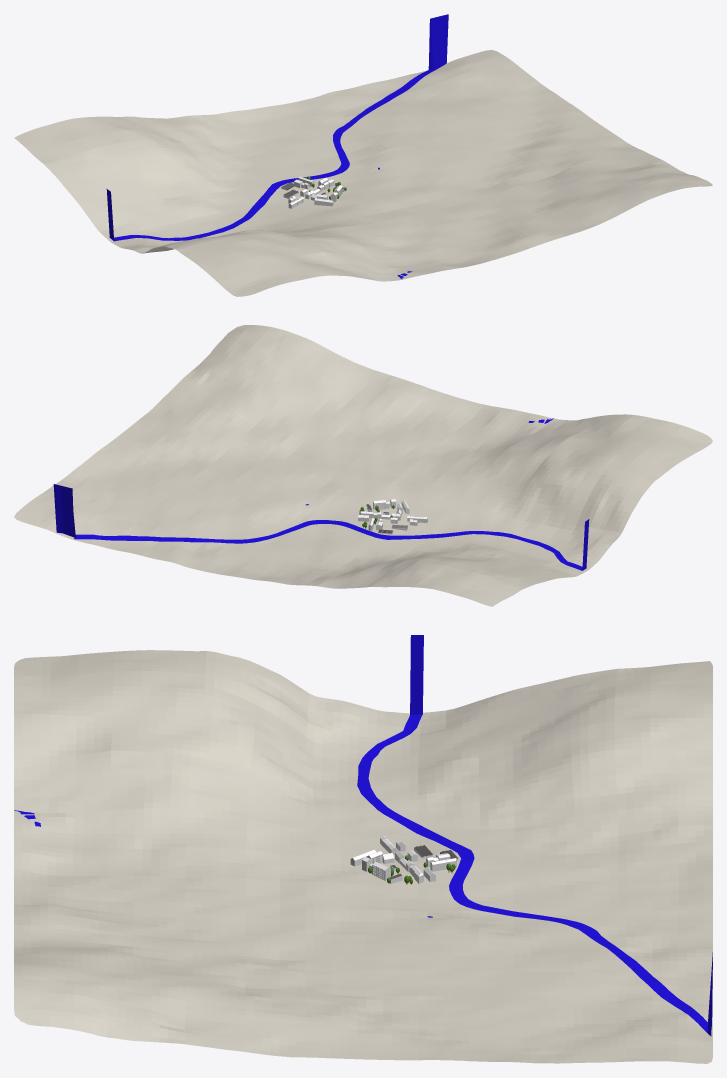
File: Arrenberg-Blender_04.gltf
3 views of the same model, one above another, from view 1: azimuth 30°, elevation 25°; view 2: azimuth 150°, elevation 25°; view 3: azimuth 270°, elevation 25° (orthographic). The views are drawn at different scales.
Visible parts, largest first — view 1: Terrrain, map_3.osm_water; view 2: Terrrain, map_3.osm_water; view 3: Terrrain, map_3.osm_water.
Boxes of the visible parts, x1,y1,x2,y2 form: Terrrain: (14,50,712,296); map_3.osm_water: (106,14,448,279); Terrrain: (14,325,712,606); map_3.osm_water: (53,418,589,570); Terrrain: (14,650,712,1063); map_3.osm_water: (14,635,712,1036).
Bounding box in the file's own units: 1591 × 170 × 1299.
